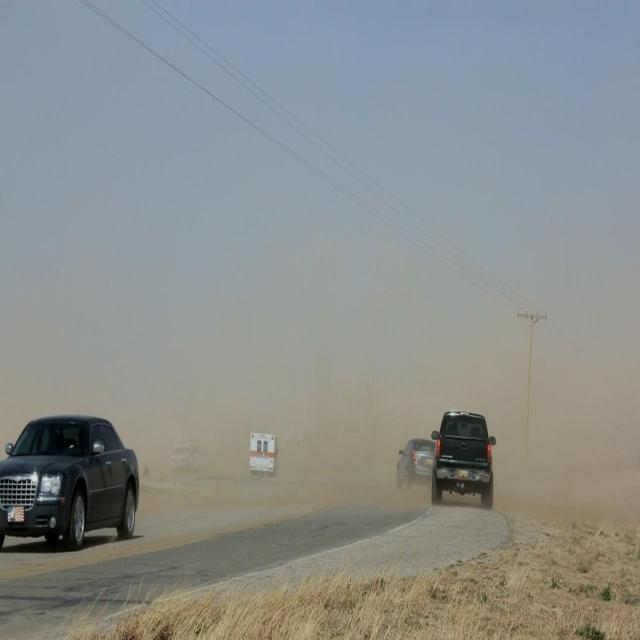Car: (0, 414, 139, 540), (430, 407, 497, 505), (395, 439, 436, 485)
